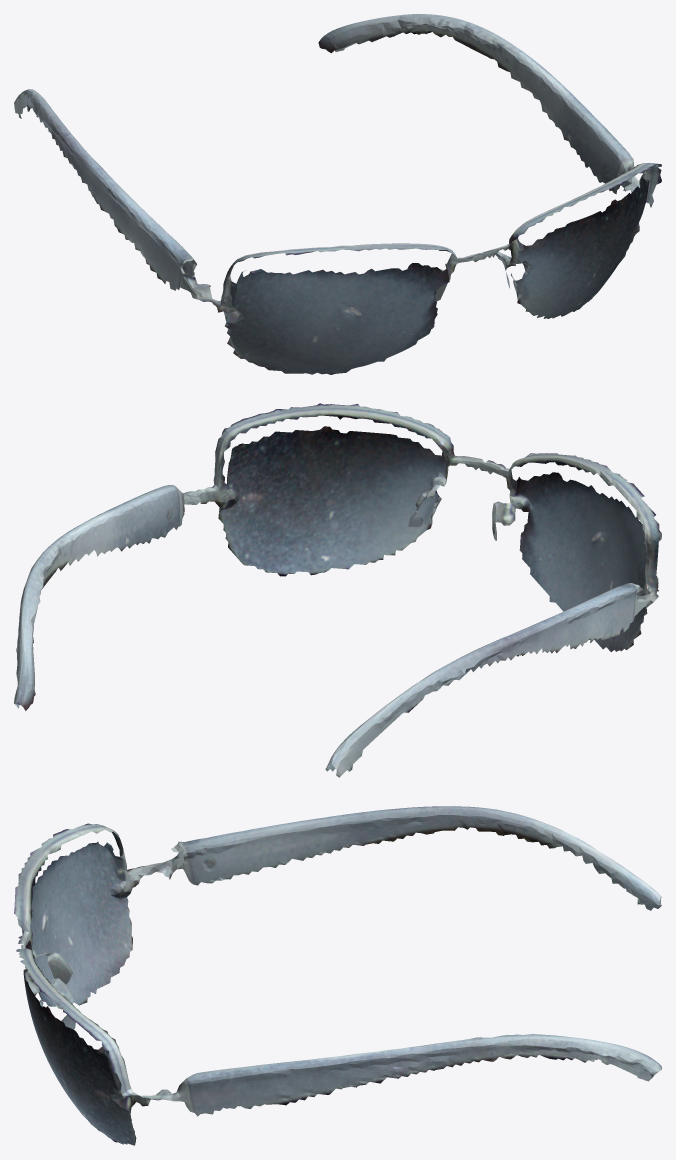
The model's file is scan_align.obj.
3 views of the same model, one above another, from view 1: azimuth 30°, elevation 25°; view 2: azimuth 150°, elevation 25°; view 3: azimuth 270°, elevation 25° (orthographic). The views are drawn at different scales.
Size of the model in its own units: 0.1365 by 0.0411 by 0.16.
1 material, 1 textured.
